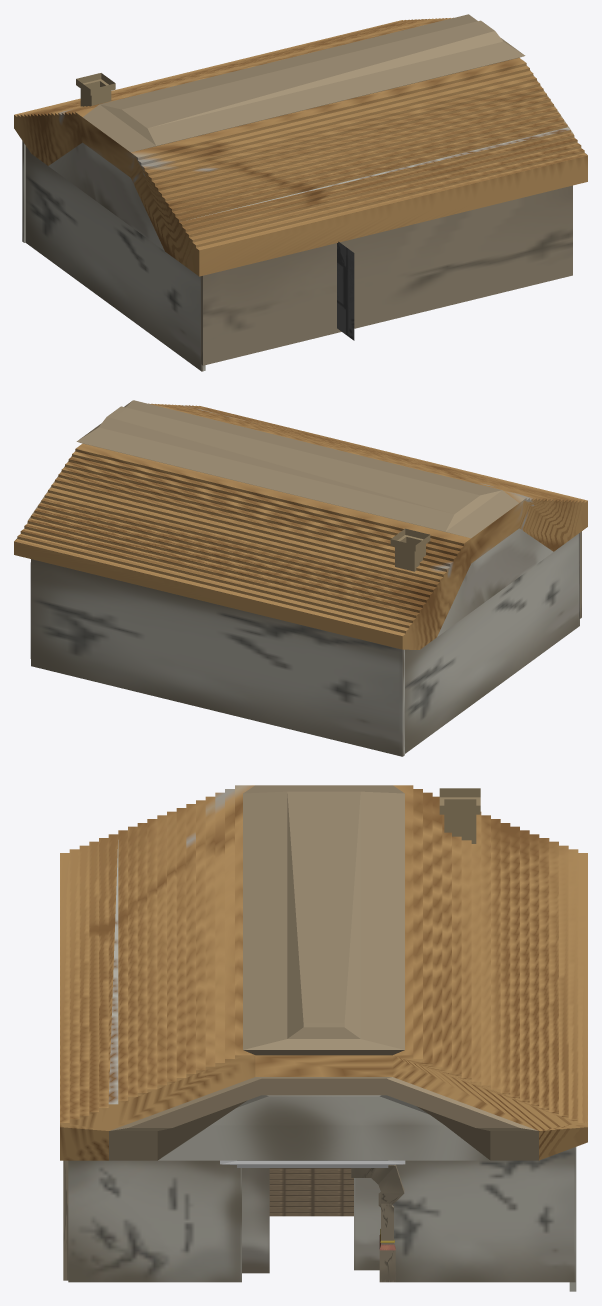
Rendered from KUCA.glb.
3 views of the same model, one above another, from view 1: azimuth 30°, elevation 25°; view 2: azimuth 150°, elevation 25°; view 3: azimuth 270°, elevation 25° (orthographic). The views are drawn at different scales.
Visible parts, largest first — view 1: Cube.016, Cube.020, Cube.035, zid, Cube.034; view 2: Cube.016, Cube.018, Cube.035, Cube.034; view 3: Cube.016, Cube.014, Cube.017, zid, Cube.013, Cube.034, Cube.015, Cube.020.
Part boxes in pixels (x1=…): Cube.016: x1=14, y1=14, x2=587, y2=276; Cube.020: x1=201, y1=185, x2=572, y2=365; Cube.035: x1=25, y1=146, x2=205, y2=371; zid: x1=337, y1=241, x2=354, y2=340; Cube.034: x1=76, y1=73, x2=115, y2=106; Cube.016: x1=14, y1=400, x2=587, y2=649; Cube.018: x1=31, y1=559, x2=404, y2=756; Cube.035: x1=405, y1=533, x2=579, y2=753; Cube.034: x1=390, y1=528, x2=430, y2=571; Cube.016: x1=60, y1=785, x2=587, y2=1160; Cube.014: x1=68, y1=1147, x2=575, y2=1282; Cube.017: x1=242, y1=1168, x2=380, y2=1273; zid: x1=269, y1=1168, x2=353, y2=1216; Cube.013: x1=351, y1=1164, x2=404, y2=1282; Cube.034: x1=439, y1=788, x2=480, y2=843; Cube.015: x1=220, y1=1160, x2=405, y2=1167; Cube.020: x1=63, y1=1160, x2=68, y2=1280.
Size of the model in its own units: 21.17 by 9.57 by 18.55.
Materials: 19 (14 with a texture image).
